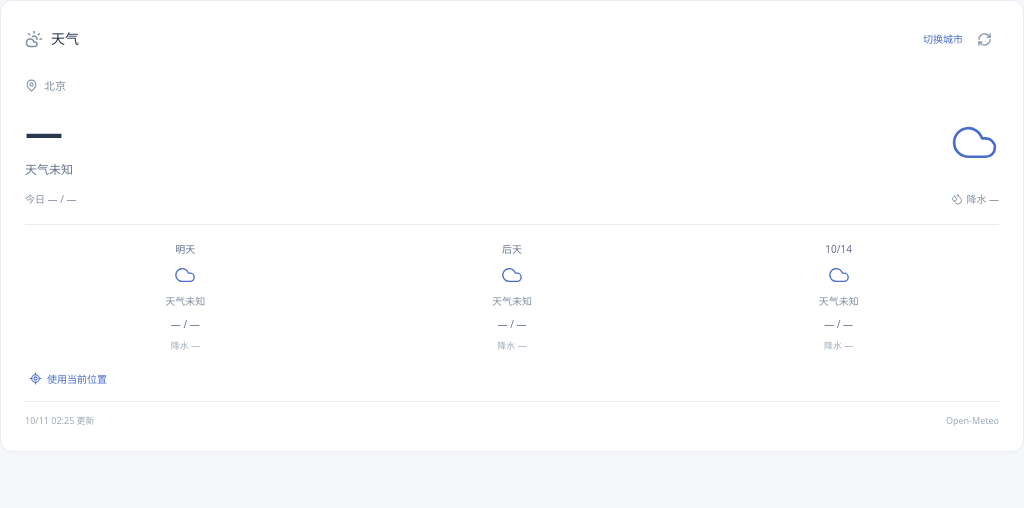
Scenario: 缓存缺失字段显示占位值；刷新失败保留数据并提供重试
Check: the text "今日 — / —" is shown, box [25, 191, 76, 207]
Check: the text "天气未知" is shown 4 times, box [25, 160, 73, 179]; [165, 293, 205, 309]; [492, 293, 532, 309]; [819, 293, 859, 309]
Click the button named "刷新天气": {"x": 984, "y": 39} [969, 24, 999, 54]
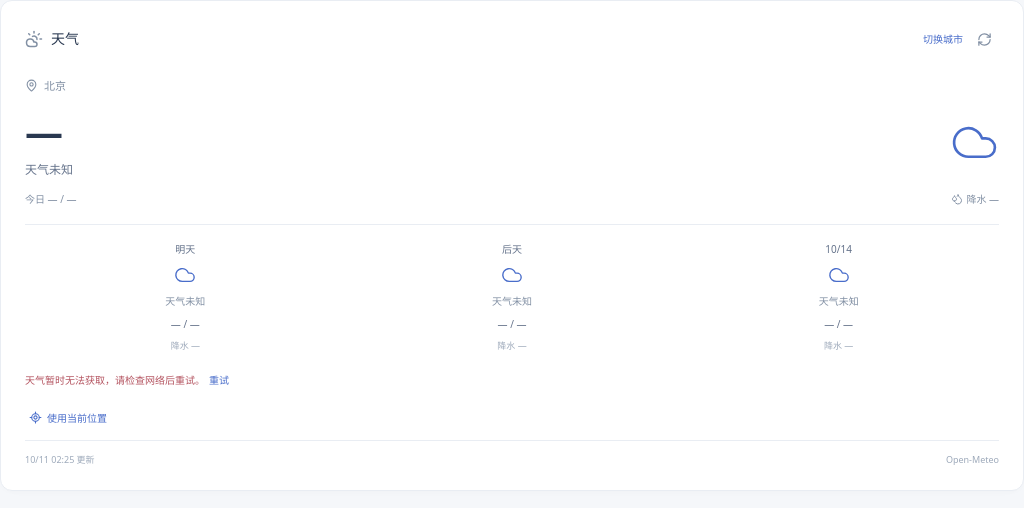
Check: the text "今日 — / —" is shown, box [25, 191, 76, 207]
Check: the text "天气暂时无法获取，请检查网络后重试。 重试" is shown, box [25, 367, 233, 393]
Click the button "重试": {"x": 219, "y": 380} [205, 367, 233, 393]
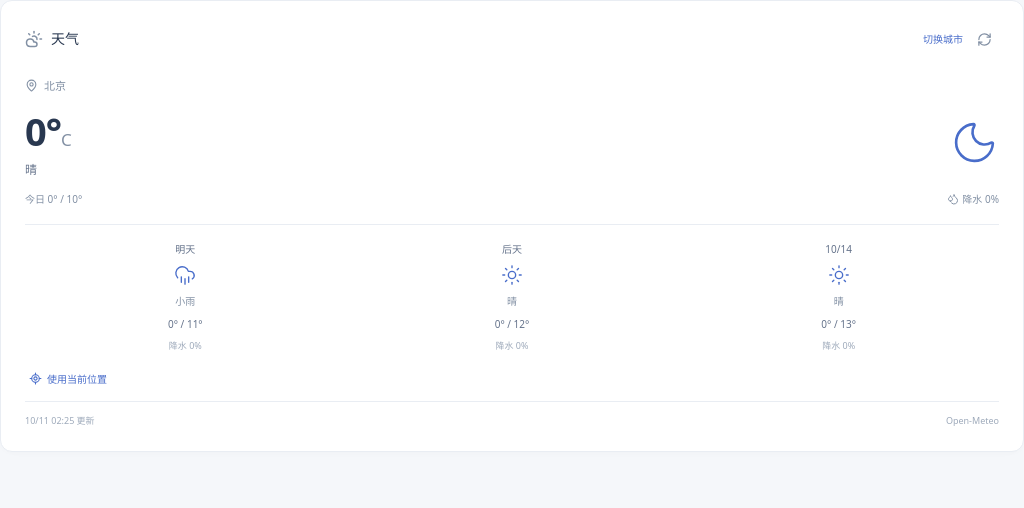
Check: the text "今日 0° / 10°" is shown, box [25, 191, 82, 207]
